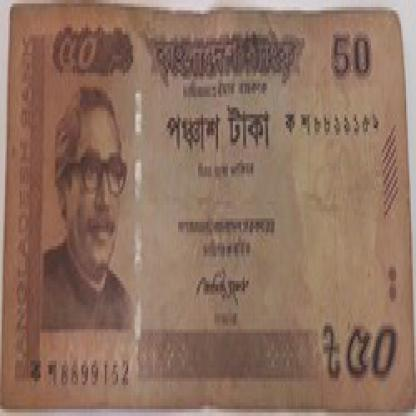Fifty taka: (318, 312, 404, 409), (50, 18, 103, 84)
